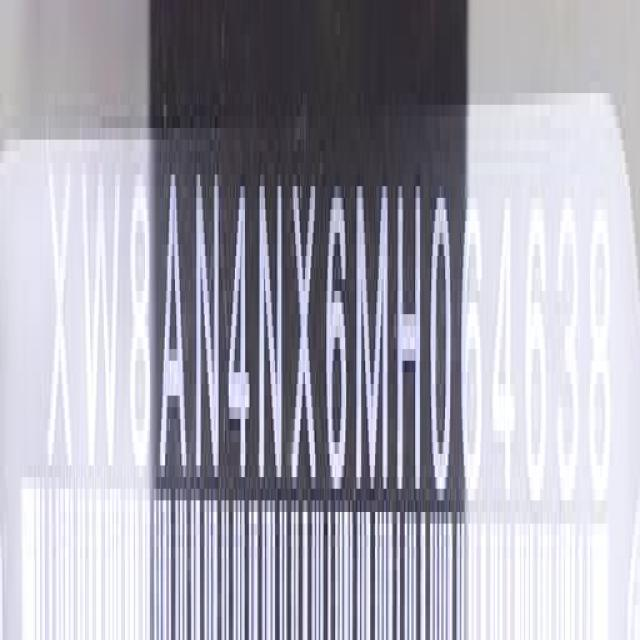0: (430, 180, 456, 510)
3: (555, 198, 581, 516)
4: (494, 193, 521, 518), (227, 164, 252, 488)
6: (324, 175, 349, 500), (461, 186, 483, 515), (524, 203, 546, 530)
8: (590, 202, 617, 512), (130, 163, 156, 484)
A: (161, 158, 187, 486)
H: (397, 175, 425, 504)
M: (356, 174, 393, 505)
N: (195, 162, 222, 490), (260, 166, 285, 494)
W: (83, 158, 123, 482)
X: (293, 171, 320, 500), (49, 162, 76, 476)
